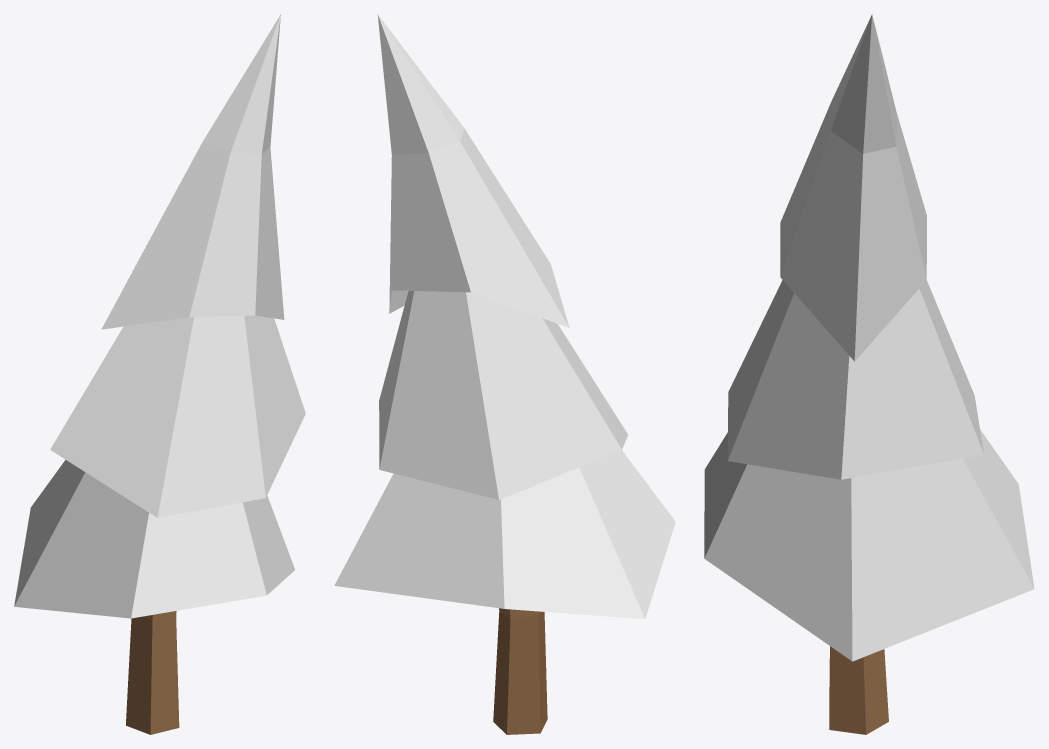
File: Pine_Tree_OneSided_s_Snow_05_LOD.fbx
3 views of the same model, side by side, from view 1: azimuth 30°, elevation 25°; view 2: azimuth 150°, elevation 25°; view 3: azimuth 270°, elevation 25° (orthographic). The views are drawn at different scales.
Visible parts, largest first — view 1: Pine_Tree_OneSided_s_Snow_05_LOD0; view 2: Pine_Tree_OneSided_s_Snow_05_LOD0; view 3: Pine_Tree_OneSided_s_Snow_05_LOD0.
Boxes of the visible parts, left/top/right/bottom form: Pine_Tree_OneSided_s_Snow_05_LOD0: left=14, top=14, right=305, bottom=734; Pine_Tree_OneSided_s_Snow_05_LOD0: left=334, top=14, right=675, bottom=734; Pine_Tree_OneSided_s_Snow_05_LOD0: left=704, top=14, right=1034, bottom=734.
Size of what is drawn, in the model's own units: 129 by 299 by 114.
